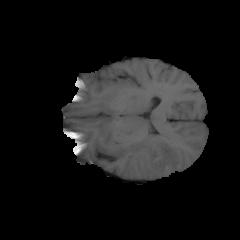glioma: (125, 131, 183, 176)
